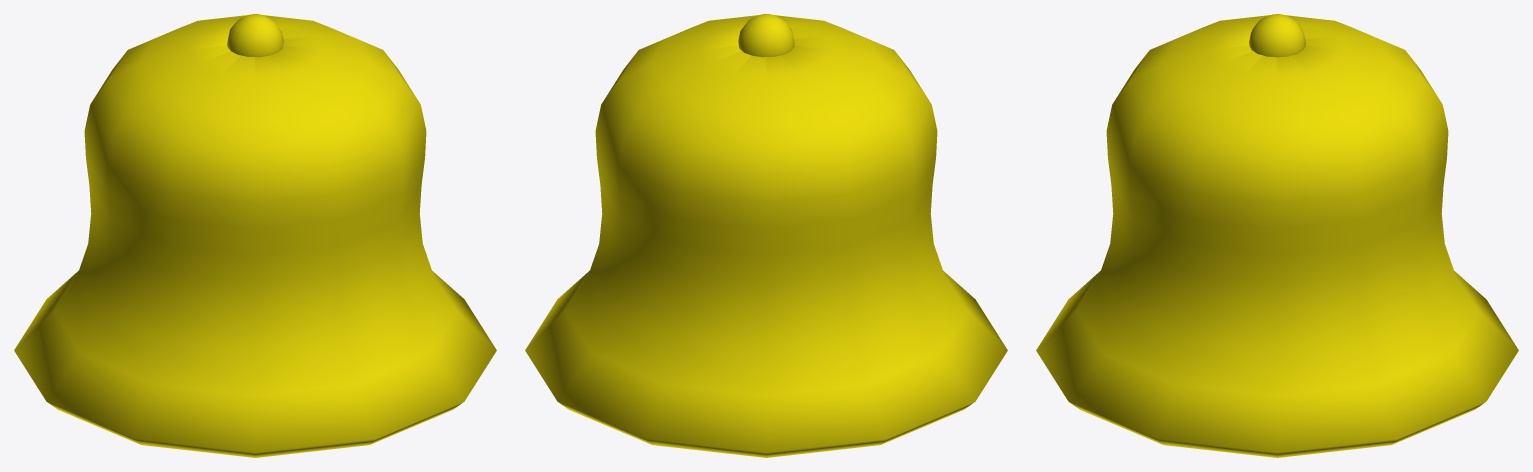
The model's file is bell.glb.
The picture shows the model from 3 angles, left to right: view 1: azimuth 30°, elevation 25°; view 2: azimuth 150°, elevation 25°; view 3: azimuth 270°, elevation 25°; orthographic projection.
Visible parts, largest first — view 1: BezierCurve; view 2: BezierCurve; view 3: BezierCurve.
Boxes of the visible parts, x1,y1,x2,y2 form: BezierCurve: (14, 14, 496, 457); BezierCurve: (525, 14, 1007, 457); BezierCurve: (1036, 14, 1518, 457).
Size of the model in its own units: 1.46 by 1.36 by 1.46.
